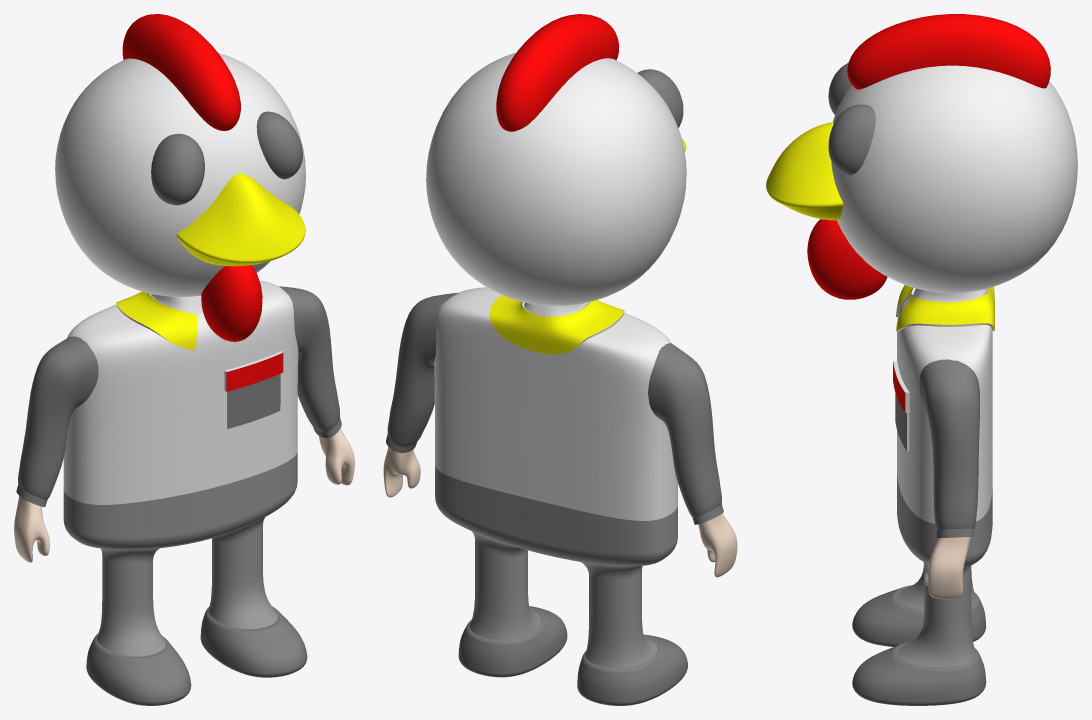
The picture shows the model from 3 angles, left to right: view 1: azimuth 30°, elevation 25°; view 2: azimuth 150°, elevation 25°; view 3: azimuth 270°, elevation 25°; orthographic projection. The views are drawn at different scales.
Visible parts, largest first — view 1: 005_TorySensei; view 2: 005_TorySensei; view 3: 005_TorySensei.
Part boxes in pixels (left/top/right/bottom): 005_TorySensei: left=14, top=14, right=354, bottom=705; 005_TorySensei: left=383, top=14, right=737, bottom=705; 005_TorySensei: left=766, top=14, right=1077, bottom=705.
Size of the model in its own units: 0.1186 by 0.2155 by 0.0946.
